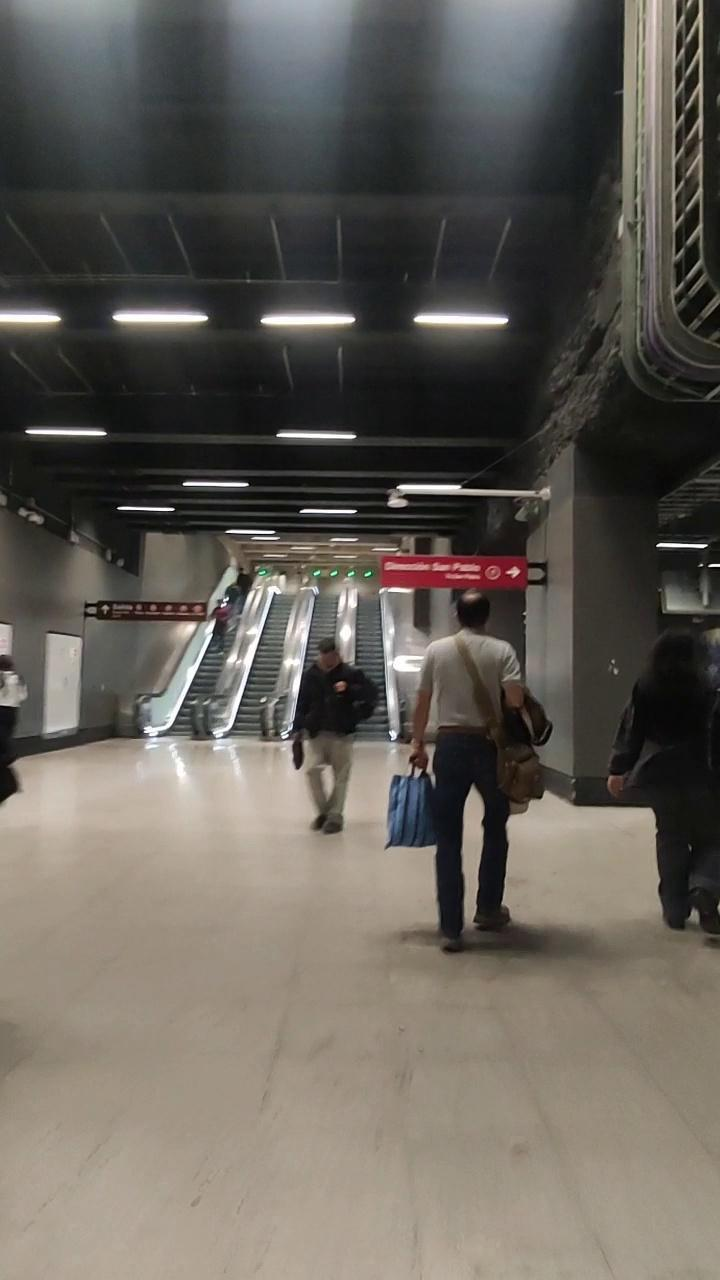right arrow: (507, 564, 520, 582)
